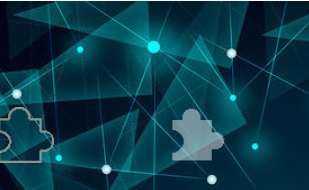target: (169, 106, 225, 164)
